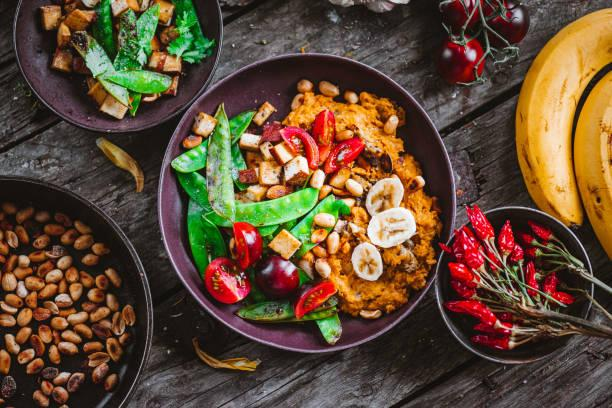Braised Crucian Carp: (160, 52, 449, 351), (14, 2, 220, 135), (434, 204, 593, 366)
